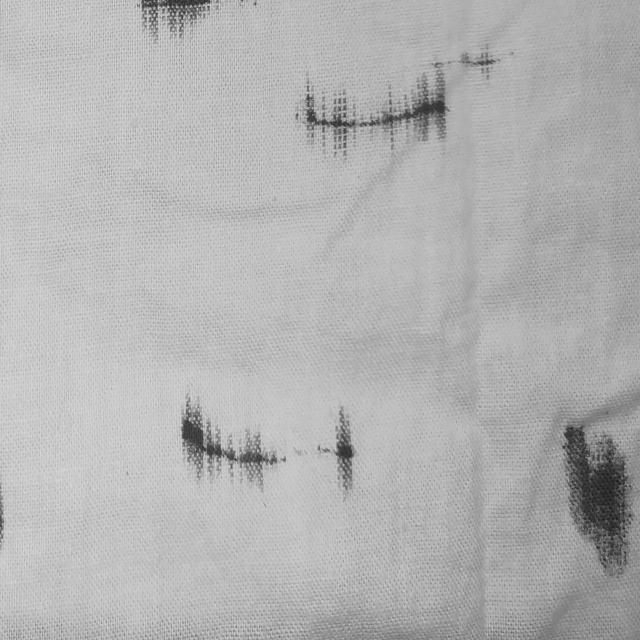Hole: (258, 36, 516, 166), (127, 375, 383, 498), (534, 401, 640, 590), (106, 0, 263, 60)
